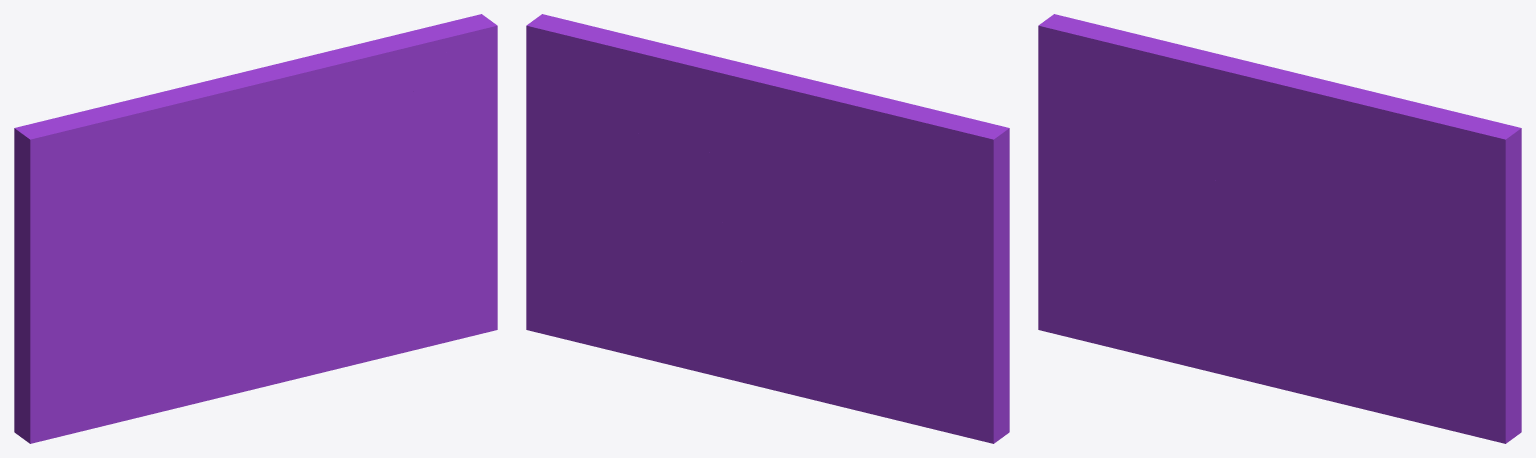
The model's file is Barrier_37_chunks.fbx.
3 renders of one model, left to right at view 1: azimuth 30°, elevation 25°; view 2: azimuth 150°, elevation 25°; view 3: azimuth 330°, elevation 25°, orthographic.
Visible parts, largest first — view 1: Barrier_37_0, Barrier_37_1, Barrier_37_6, Barrier_37_3, Barrier_37_4, Barrier_37_5; view 2: Barrier_37_0, Barrier_37_1, Barrier_37_6, Barrier_37_5, Barrier_37_3, Barrier_37_4, Barrier_37_2; view 3: Barrier_37_1, Barrier_37_0, Barrier_37_6, Barrier_37_3, Barrier_37_4, Barrier_37_5.
Part boxes in pixels (x1=…): Barrier_37_0: x1=14, y1=124, x2=261, y2=443; Barrier_37_1: x1=253, y1=56, x2=497, y2=389; Barrier_37_6: x1=31, y1=70, x2=308, y2=233; Barrier_37_3: x1=248, y1=33, x2=466, y2=139; Barrier_37_4: x1=279, y1=79, x2=466, y2=219; Barrier_37_5: x1=343, y1=14, x2=497, y2=93; Barrier_37_0: x1=761, y1=124, x2=1009, y2=443; Barrier_37_1: x1=526, y1=62, x2=765, y2=388; Barrier_37_6: x1=709, y1=75, x2=991, y2=226; Barrier_37_5: x1=526, y1=14, x2=720, y2=149; Barrier_37_3: x1=574, y1=22, x2=791, y2=111; Barrier_37_4: x1=614, y1=128, x2=729, y2=207; Barrier_37_2: x1=712, y1=202, x2=779, y2=300; Barrier_37_1: x1=1262, y1=165, x2=1521, y2=443; Barrier_37_0: x1=1038, y1=14, x2=1269, y2=384; Barrier_37_6: x1=1056, y1=18, x2=1316, y2=232; Barrier_37_3: x1=1256, y1=72, x2=1474, y2=161; Barrier_37_4: x1=1287, y1=161, x2=1474, y2=227; Barrier_37_5: x1=1383, y1=94, x2=1521, y2=178.
Bounding box in the file's own units: 462 × 288 × 27.2.
